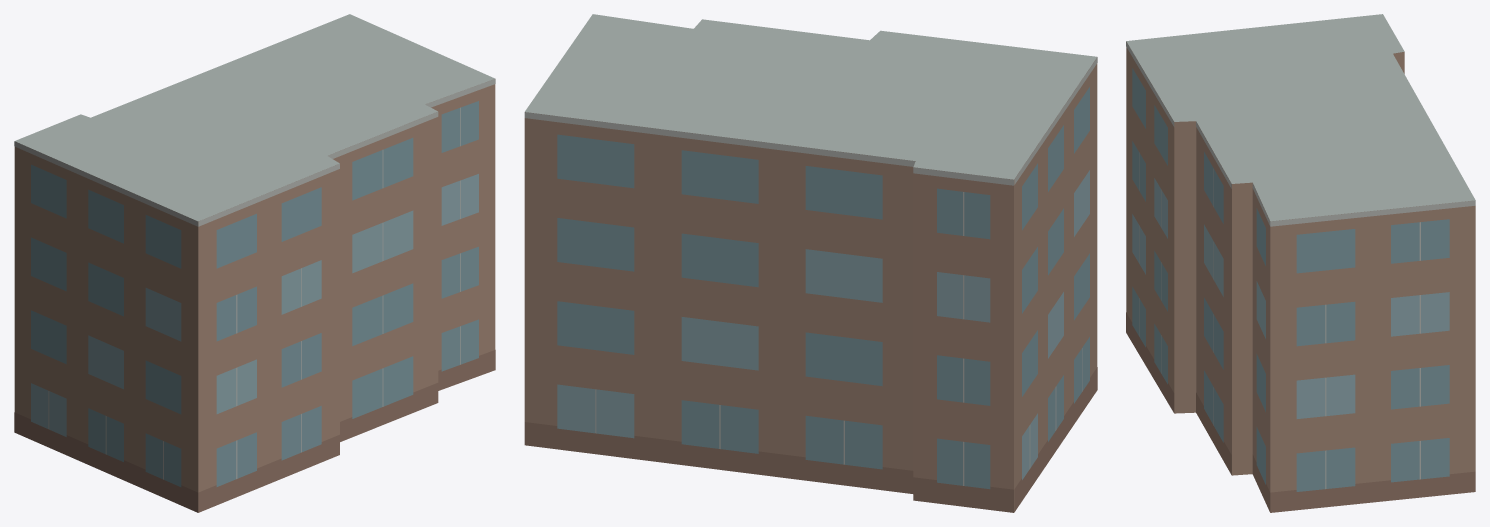
File: survey-upis-33040312.glb
The picture shows the model from 3 angles, left to right: view 1: azimuth 30°, elevation 25°; view 2: azimuth 150°, elevation 25°; view 3: azimuth 270°, elevation 25°; orthographic projection. The views are drawn at different scales.
Parts seen in each view (by area): view 1: survey-upis-33040312.tmp; view 2: survey-upis-33040312.tmp; view 3: survey-upis-33040312.tmp.
Boxes of the visible parts, x1,y1,x2,y2 form: survey-upis-33040312.tmp: [14, 14, 495, 512]; survey-upis-33040312.tmp: [524, 14, 1097, 512]; survey-upis-33040312.tmp: [1126, 14, 1475, 512].
Size of the model in its own units: 20.29 by 13.3 by 14.46.
